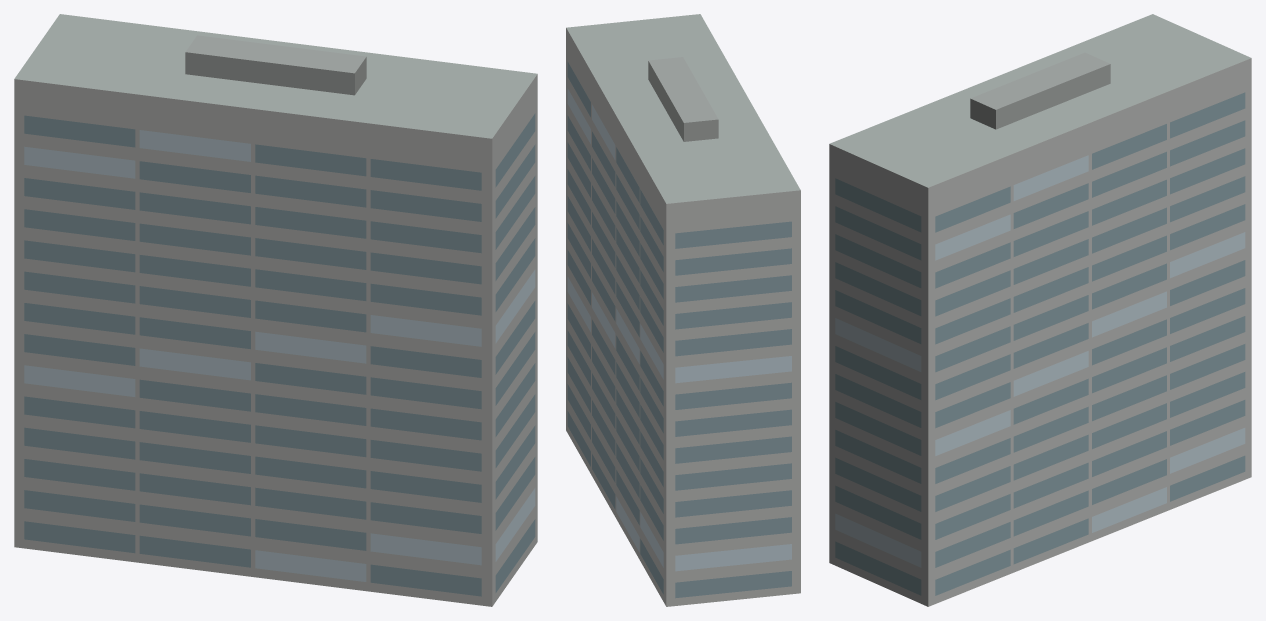
File: apt-a15704009.glb
3 renders of one model, left to right at view 1: azimuth 30°, elevation 25°; view 2: azimuth 150°, elevation 25°; view 3: azimuth 270°, elevation 25°, orthographic. The views are drawn at different scales.
Parts seen in each view (by area): view 1: apt-a15704009; view 2: apt-a15704009; view 3: apt-a15704009.
Part boxes in pixels (x1,y1,x2,y2): apt-a15704009: (14,14,537,606); apt-a15704009: (566,14,800,606); apt-a15704009: (829,14,1251,606).
Size of the model in its own units: 35.69 by 42 by 36.65.
